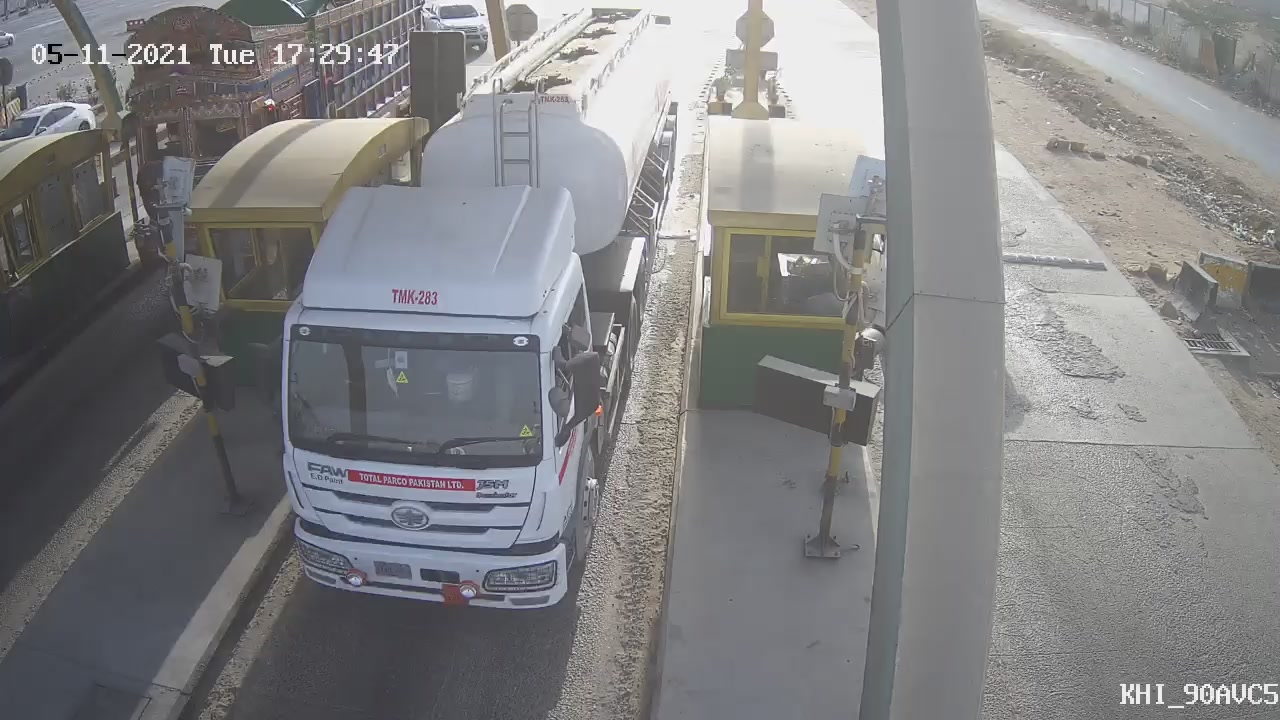F6: (234, 1, 683, 624)
